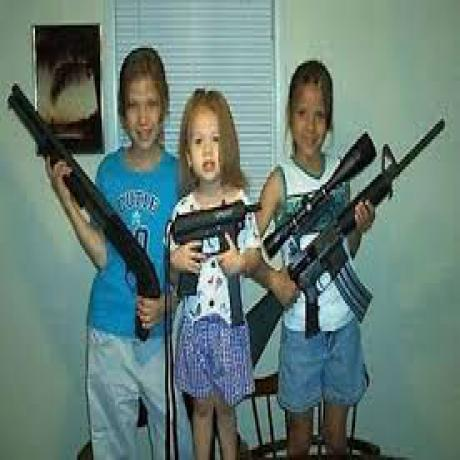Guns: (7, 81, 160, 349), (254, 113, 448, 318), (167, 192, 256, 319)
